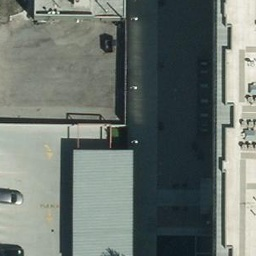car: (1, 188, 23, 205), (1, 244, 24, 256)
